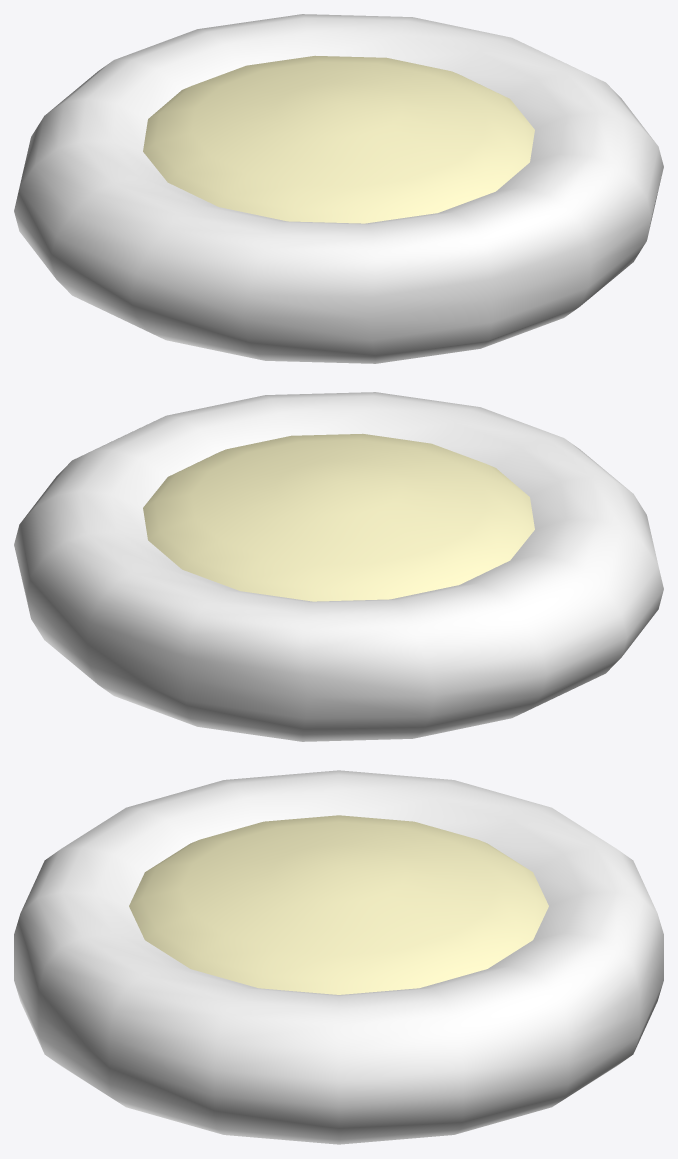
File: Cheesecake.fbx
3 renders of one model, top to bottom at view 1: azimuth 30°, elevation 25°; view 2: azimuth 150°, elevation 25°; view 3: azimuth 270°, elevation 25°, orthographic. The views are drawn at different scales.
Parts seen in each view (by area): view 1: Cheesecake; view 2: Cheesecake; view 3: Cheesecake.
Part boxes in pixels (x1,y1,x2,y2): Cheesecake: [14, 14, 663, 363]; Cheesecake: [14, 392, 663, 741]; Cheesecake: [14, 770, 663, 1144].
Size of the model in its own units: 159 by 146 by 38.53.
